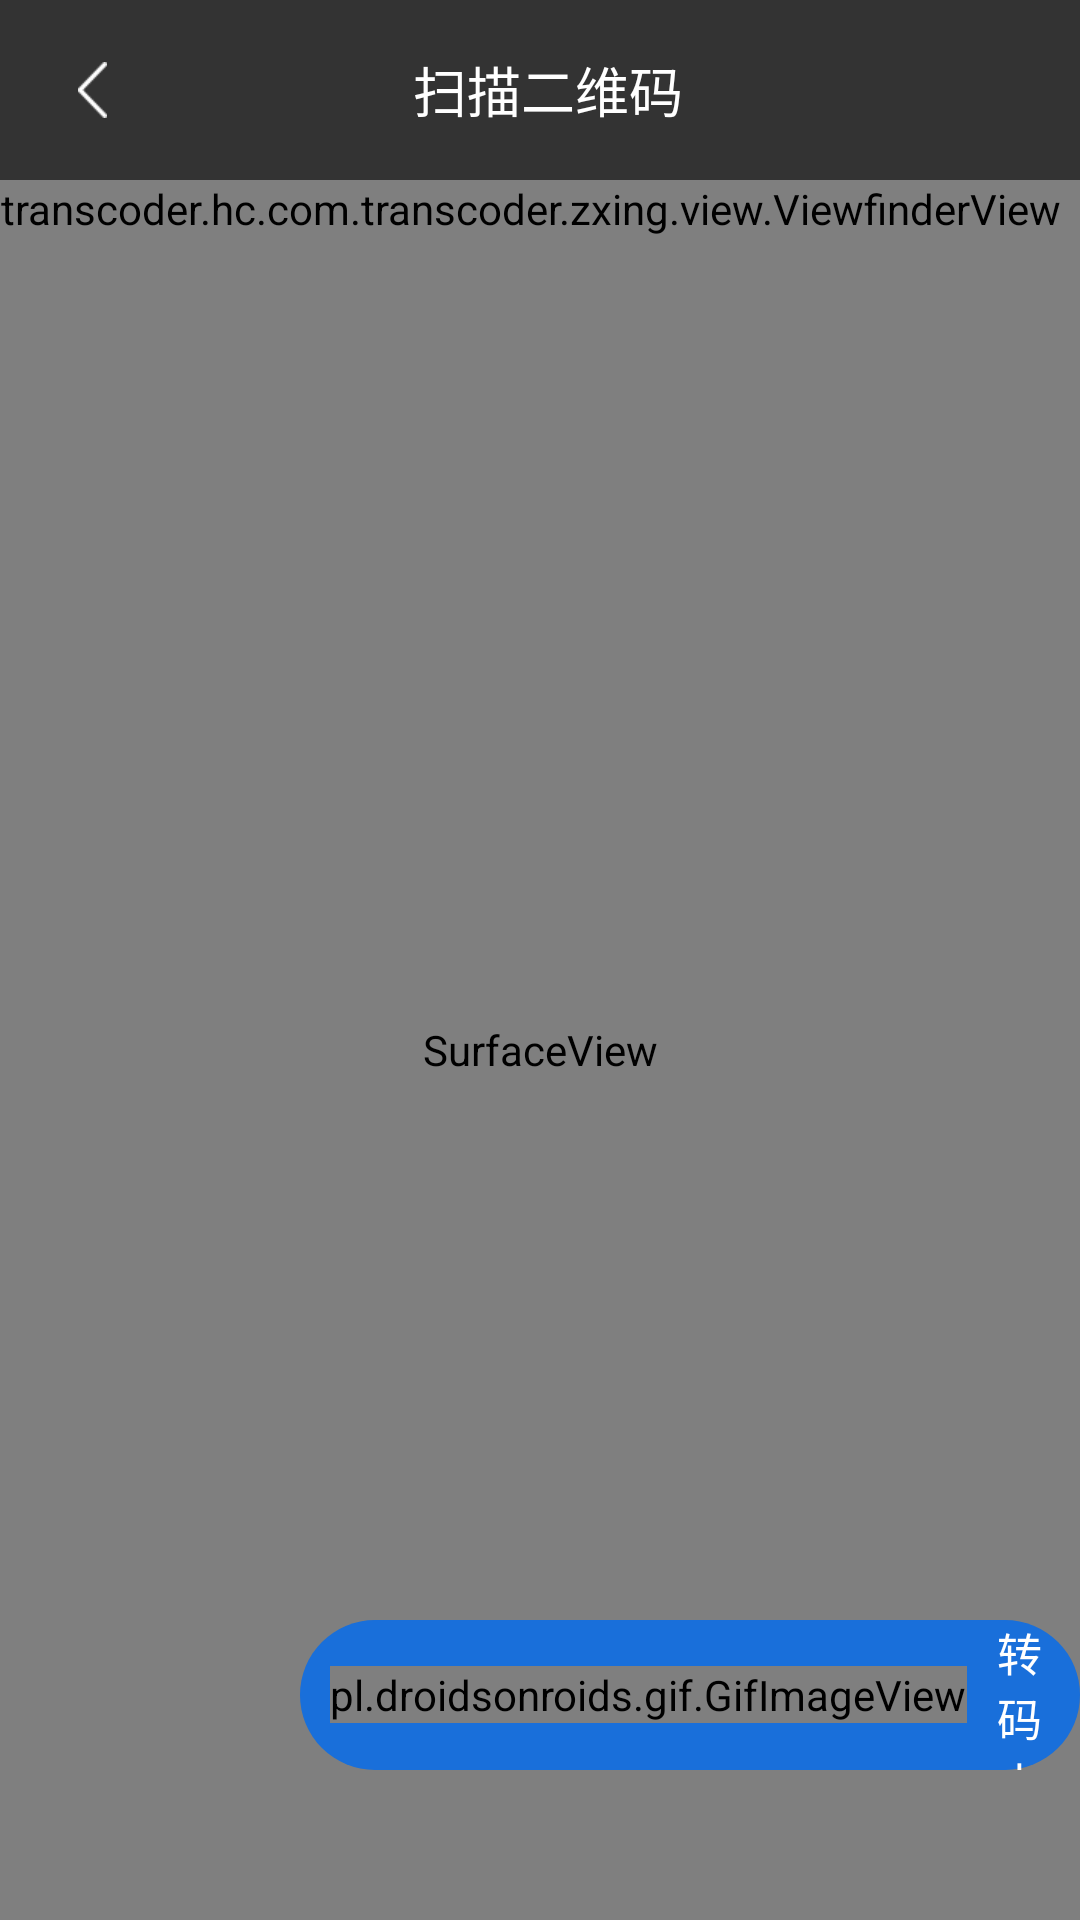

Screen size 1080w x 1920h. Icon name, then its box in pixels as detection(x1, y1, x2, y2):
back: detection(78, 62, 107, 118)
